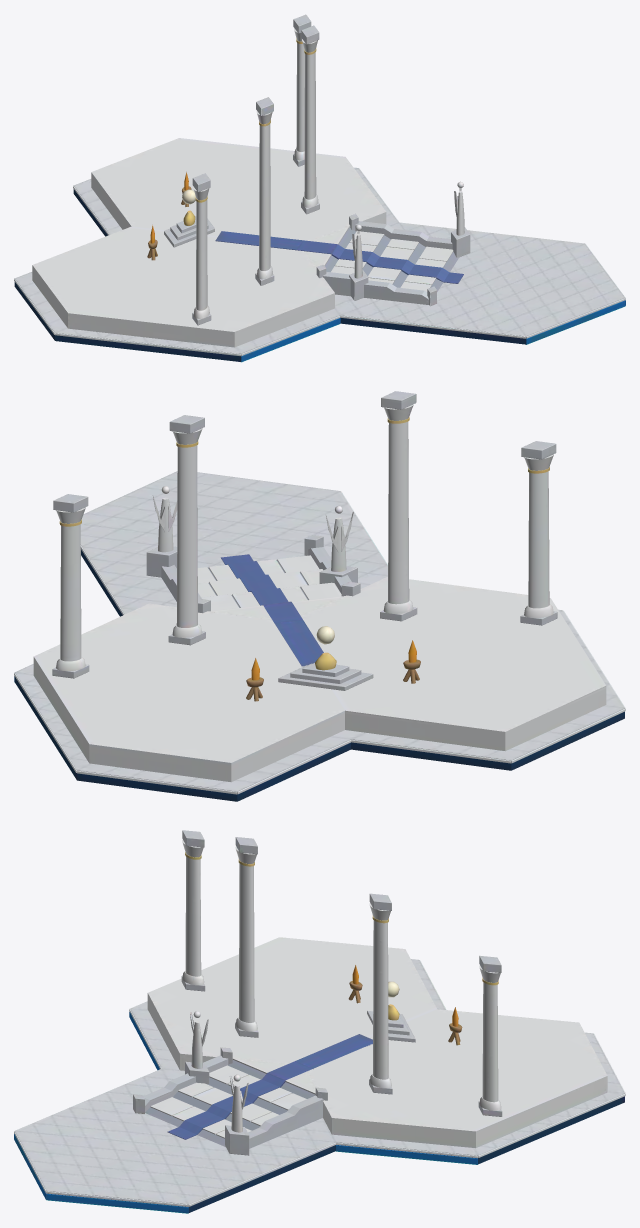
Rendered from field_cm13_01.glb.
3 renders of one model, top to bottom at view 1: azimuth 30°, elevation 25°; view 2: azimuth 150°, elevation 25°; view 3: azimuth 270°, elevation 25°, orthographic. The views are drawn at different scales.
Visible parts, largest first — view 1: field_cm13_01-runtime-static; view 2: field_cm13_01-runtime-static; view 3: field_cm13_01-runtime-static.
Boxes of the visible parts, x1,y1,x2,y2 form: field_cm13_01-runtime-static: (14, 14, 625, 362); field_cm13_01-runtime-static: (14, 391, 625, 801); field_cm13_01-runtime-static: (14, 830, 625, 1213).
Bounding box in the file's own units: 14.93 × 5.85 × 14.93.
Materials: 1 (1 with a texture image).
